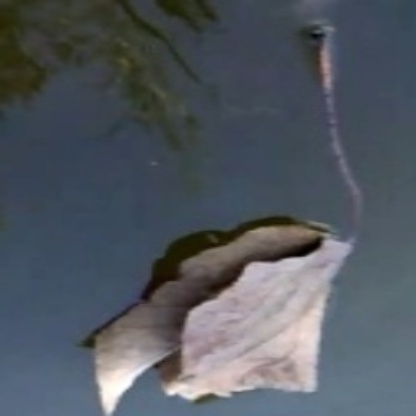leaf: (81, 207, 364, 404)
